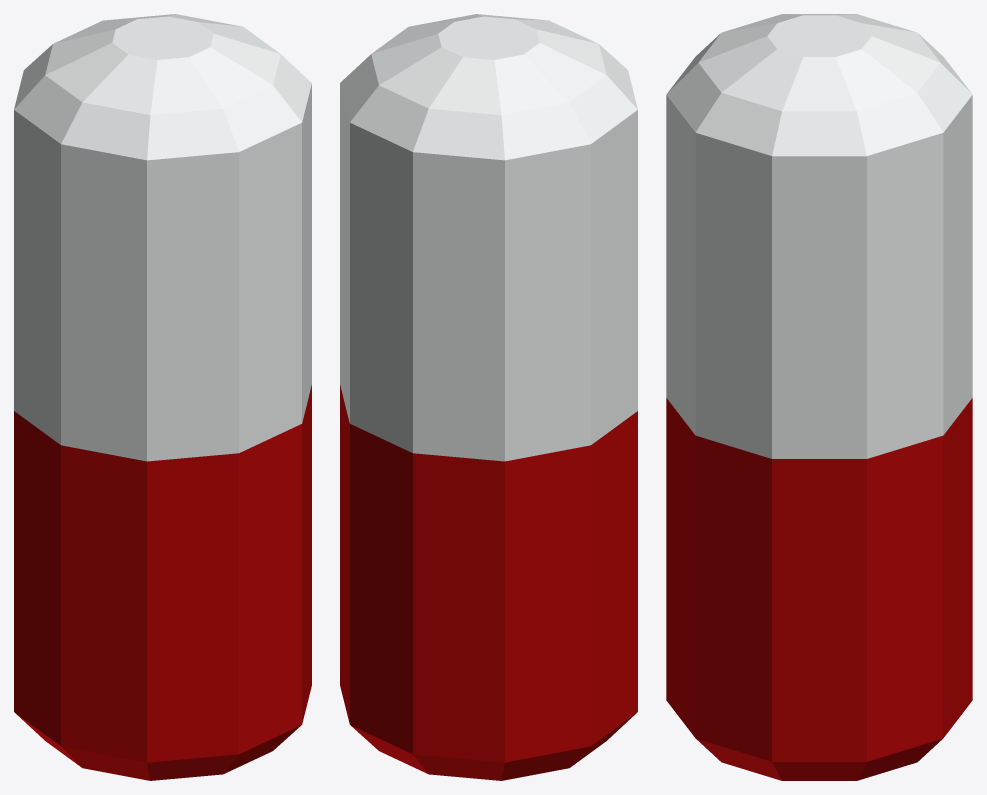
File: pill.glb
3 renders of one model, left to right at view 1: azimuth 30°, elevation 25°; view 2: azimuth 150°, elevation 25°; view 3: azimuth 270°, elevation 25°, orthographic.
Visible parts, largest first — view 1: Cylinder.073; view 2: Cylinder.073; view 3: Cylinder.073.
Boxes of the visible parts, <box> form: Cylinder.073: <box>14,14,311,780</box>; Cylinder.073: <box>340,14,637,780</box>; Cylinder.073: <box>666,14,972,780</box>.
Size of the model in its own units: 0.1009 by 0.2761 by 0.1061.
Materials: 1 (1 with a texture image).
